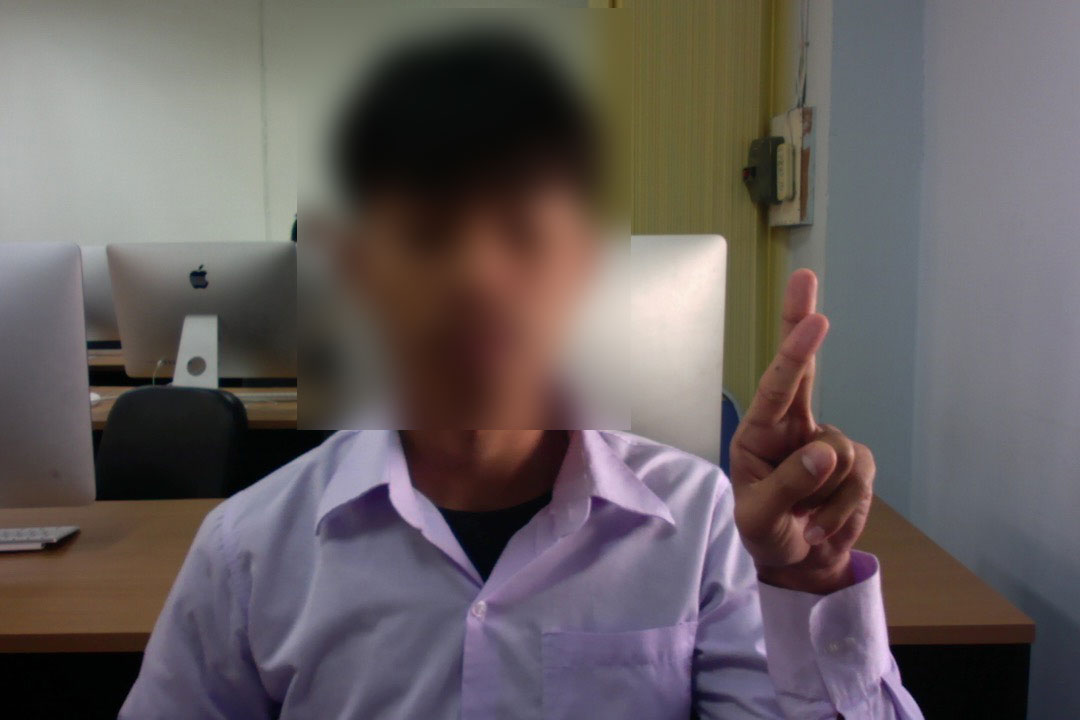rao: (720, 258, 890, 577)
